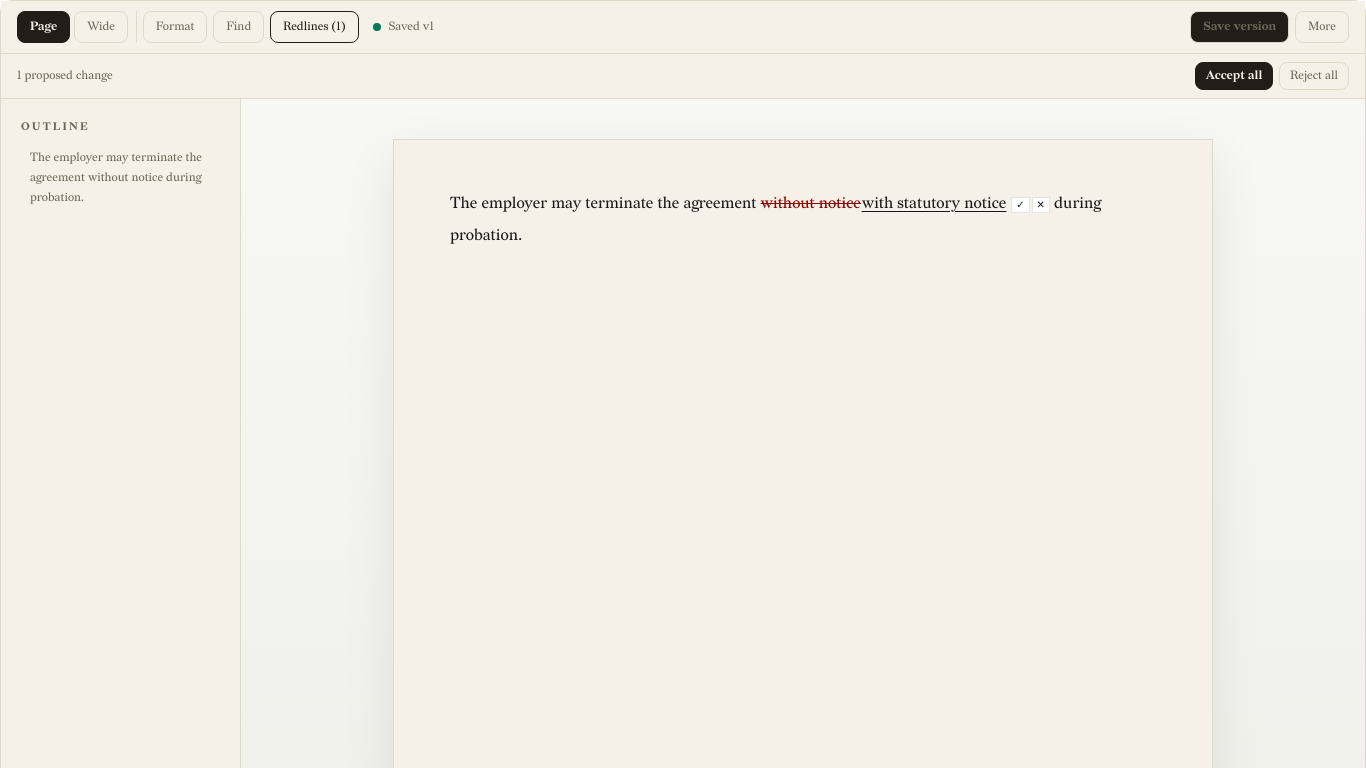
Test case: DocumentRichEditor inline tracked changes › hides the inline decorations when the Redlines toggle is switched off
Expected: the text box with class "legalise-track-delete" is shown, [760,194,861,213]
Click the button with test id "document-editor-redlines-toggle". click: (314, 27)
box: [270,11,359,43]
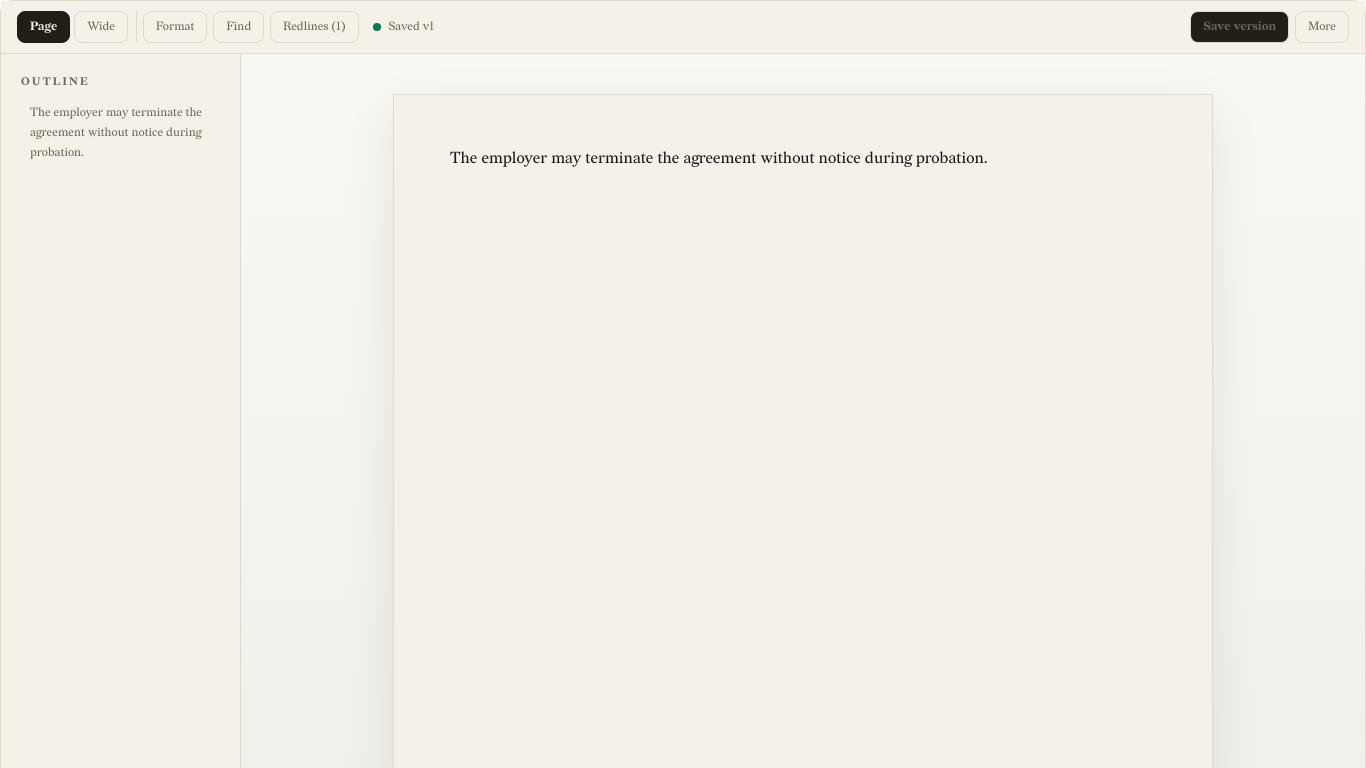
Expected: the text box with class "legalise-track-delete" is gone
Expected: the element with test id "document-editor-redlines-panel" is gone
